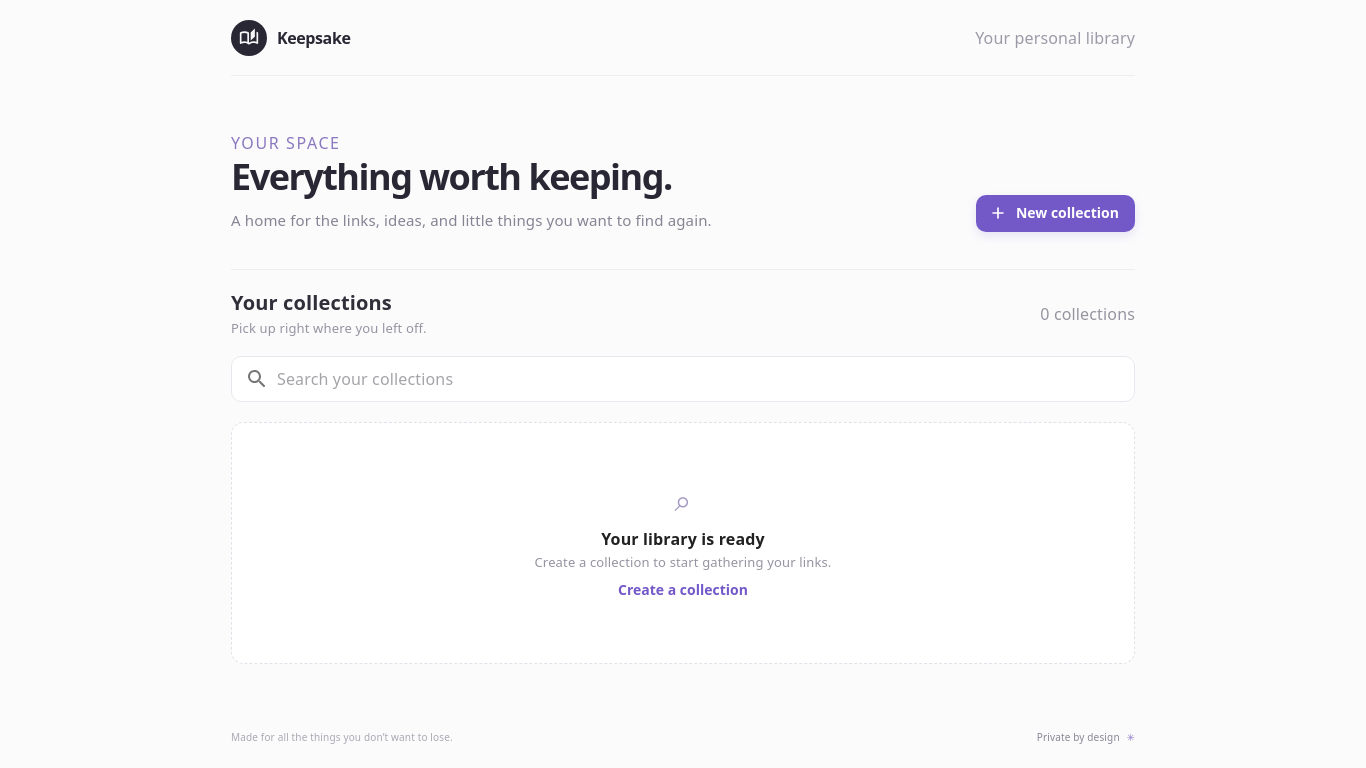
Test: HomePage › creates a public collection without sending an empty password and offers a backup download
Step 1. Click the button "New collection" → (1055, 213), box x1=976 y1=195 x2=1135 y2=232
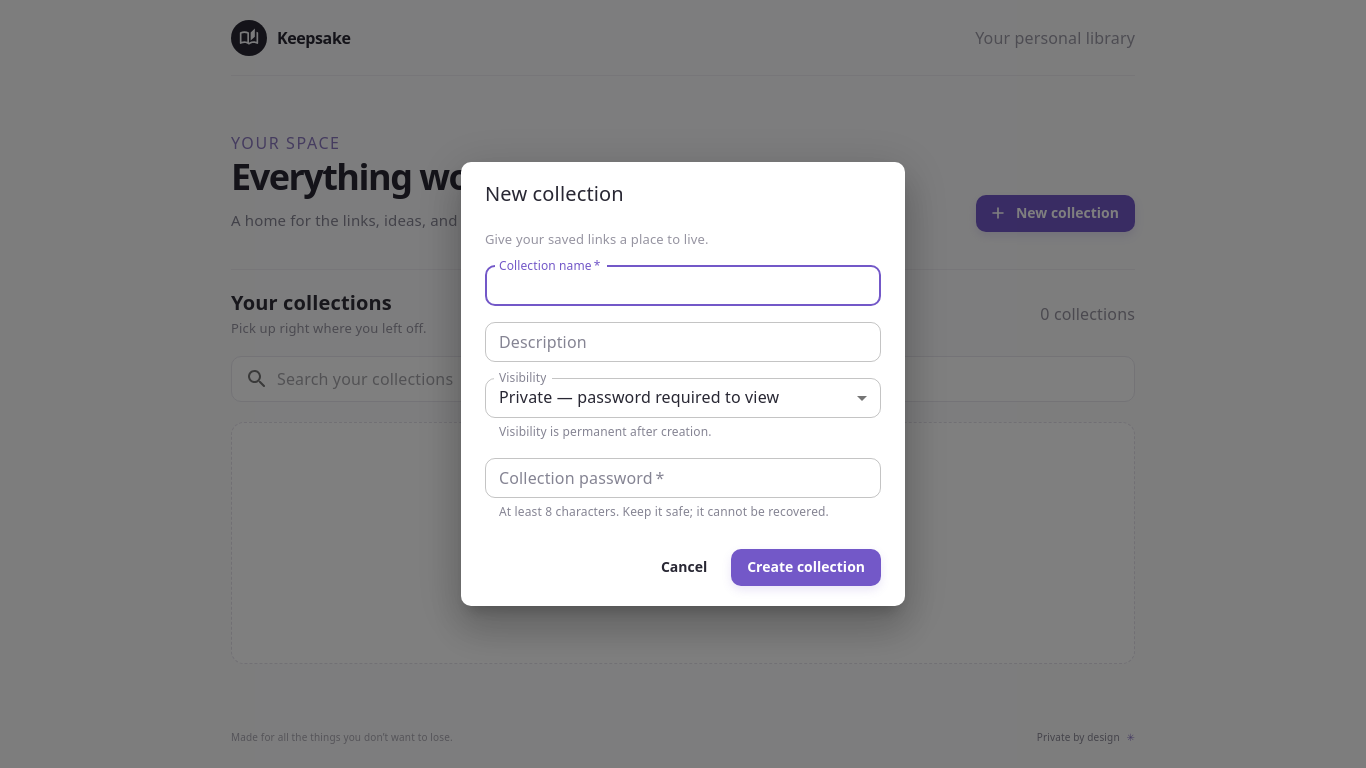
Step 2. Type "Open links" into the field labelled "Collection name" → (683, 286), box x1=485 y1=266 x2=881 y2=306
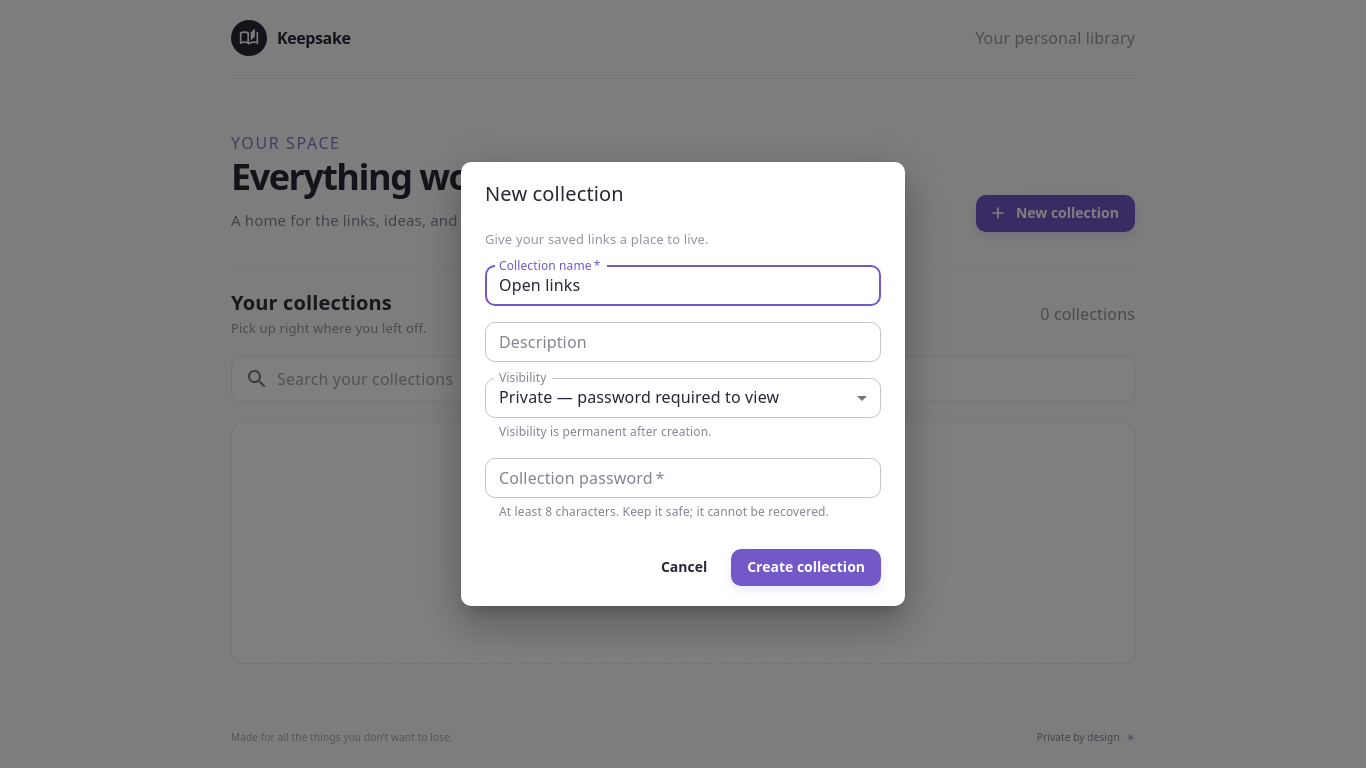
Step 3. Click the dropdown named "Visibility" → (639, 397), box x1=499 y1=386 x2=779 y2=408
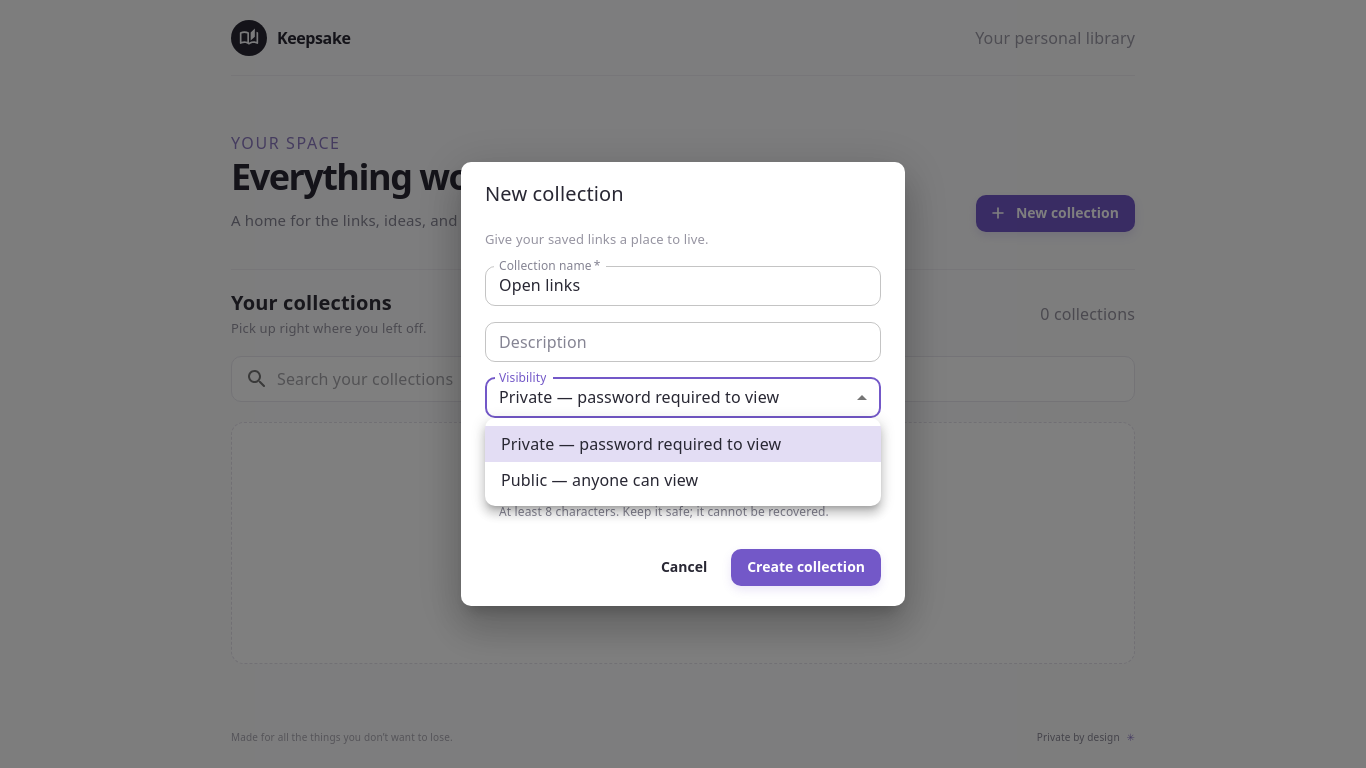
Step 4. Click the option "Public — anyone can view" → (600, 480), box x1=501 y1=469 x2=698 y2=491
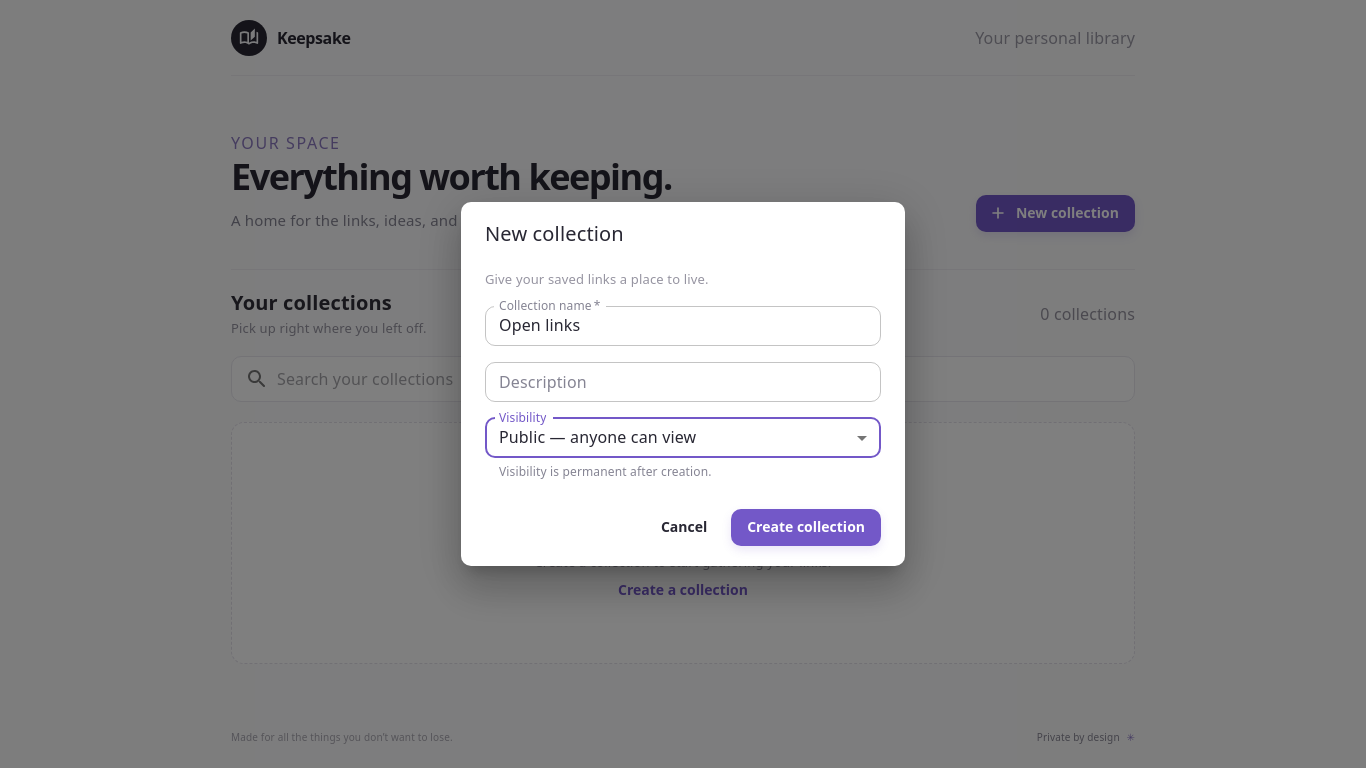
Step 5. Click the button "Create collection" → (806, 528), box x1=731 y1=510 x2=881 y2=546
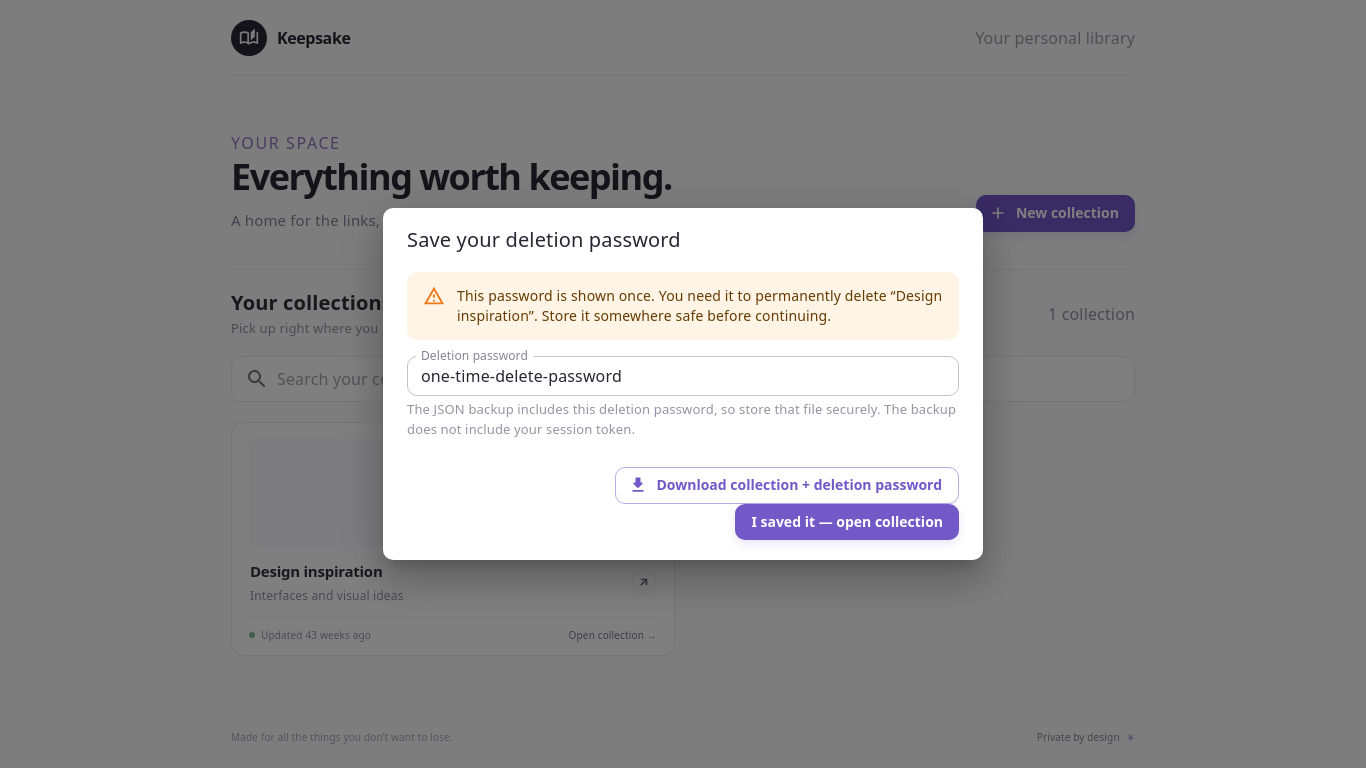
Expected: the field labelled "Deletion password" holds "one-time-delete-password", x1=407 y1=356 x2=959 y2=396
Expected: the button "Download collection + deletion password" is shown, x1=616 y1=467 x2=959 y2=504
